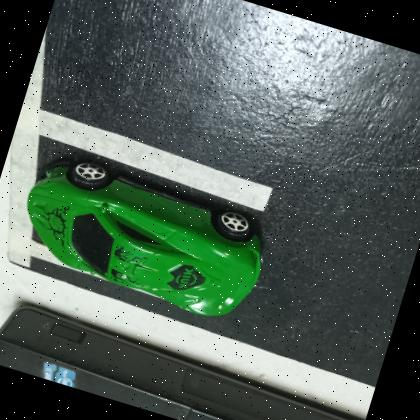Car: (7, 146, 277, 330)
